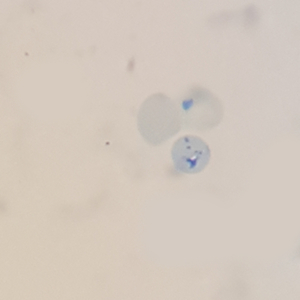aggregate reticulocyte: (169, 134, 213, 177)
erythrocyte: (134, 91, 185, 149), (178, 86, 226, 133)
